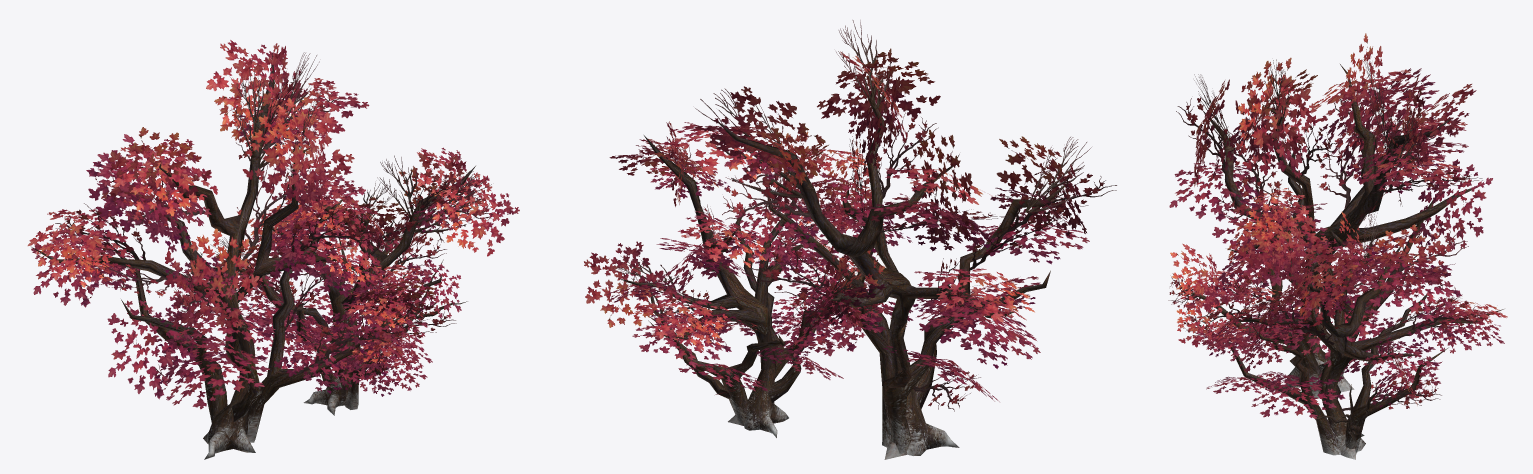
Rendered from yw_anxizhidi_shu01.FBX.
3 views of the same model, side by side, from view 1: azimuth 30°, elevation 25°; view 2: azimuth 150°, elevation 25°; view 3: azimuth 270°, elevation 25° (orthographic). The views are drawn at different scales.
Visible parts, largest first — view 1: yw_anxizhidi_shu01; view 2: yw_anxizhidi_shu01; view 3: yw_anxizhidi_shu01.
Boxes of the visible parts, x1=… form: yw_anxizhidi_shu01: x1=27, y1=40, x2=519, y2=459; yw_anxizhidi_shu01: x1=584, y1=20, x2=1116, y2=459; yw_anxizhidi_shu01: x1=1168, y1=33, x2=1507, y2=459.
Size of the model in its own units: 898 by 696 by 619.
